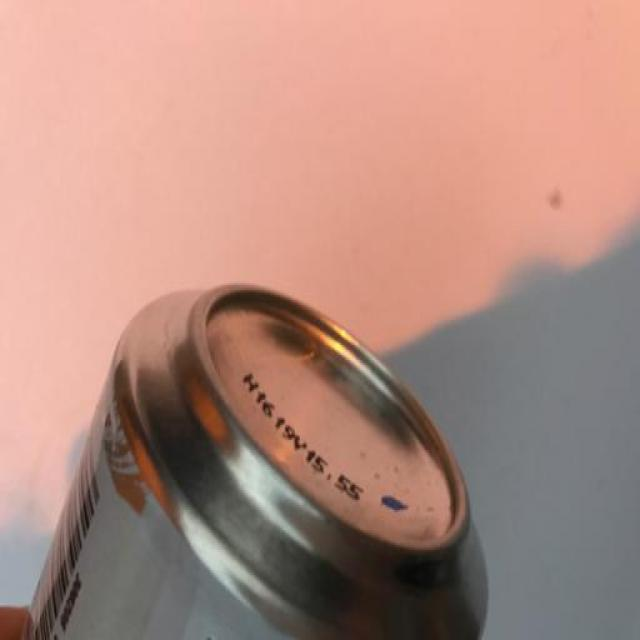metel: (1, 277, 525, 640)
